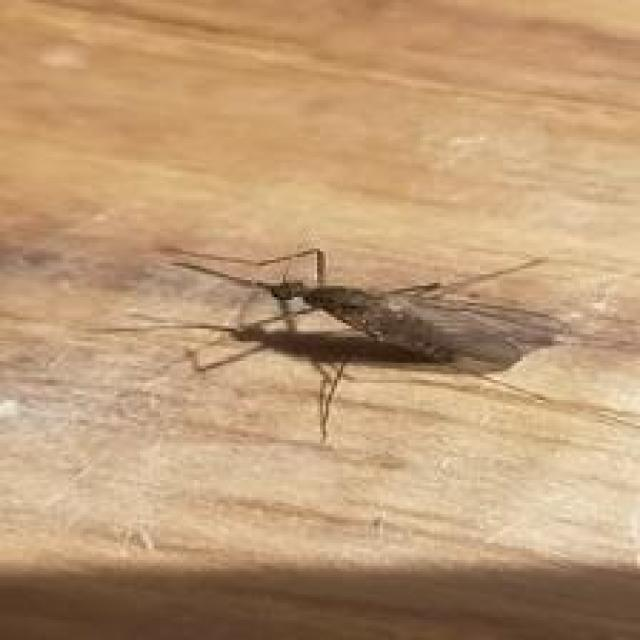Culex: (90, 242, 639, 447)
